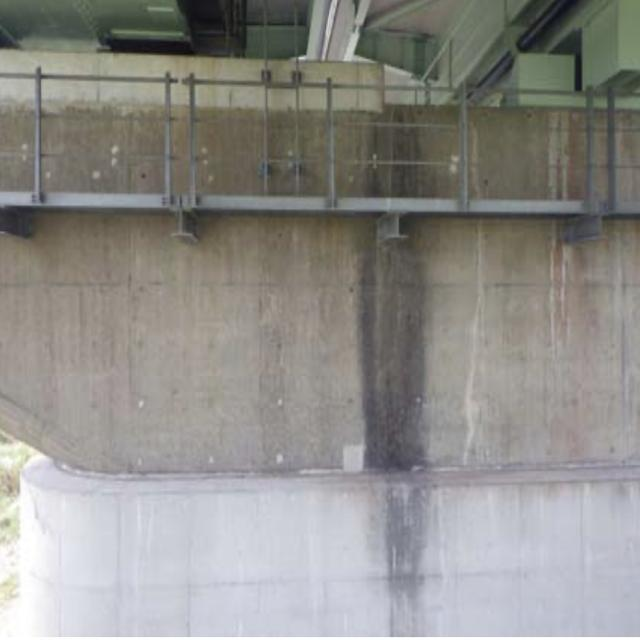leakage: (366, 107, 436, 612)
